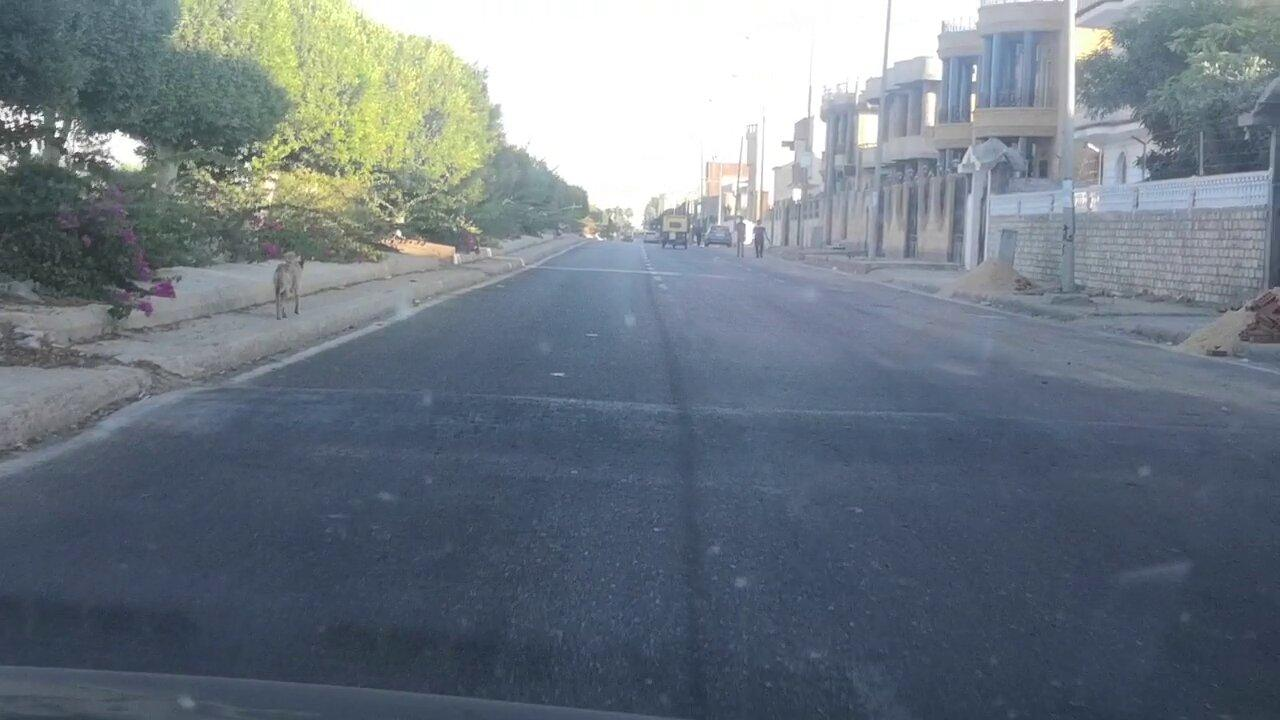Bump: (208, 366, 1280, 509)
